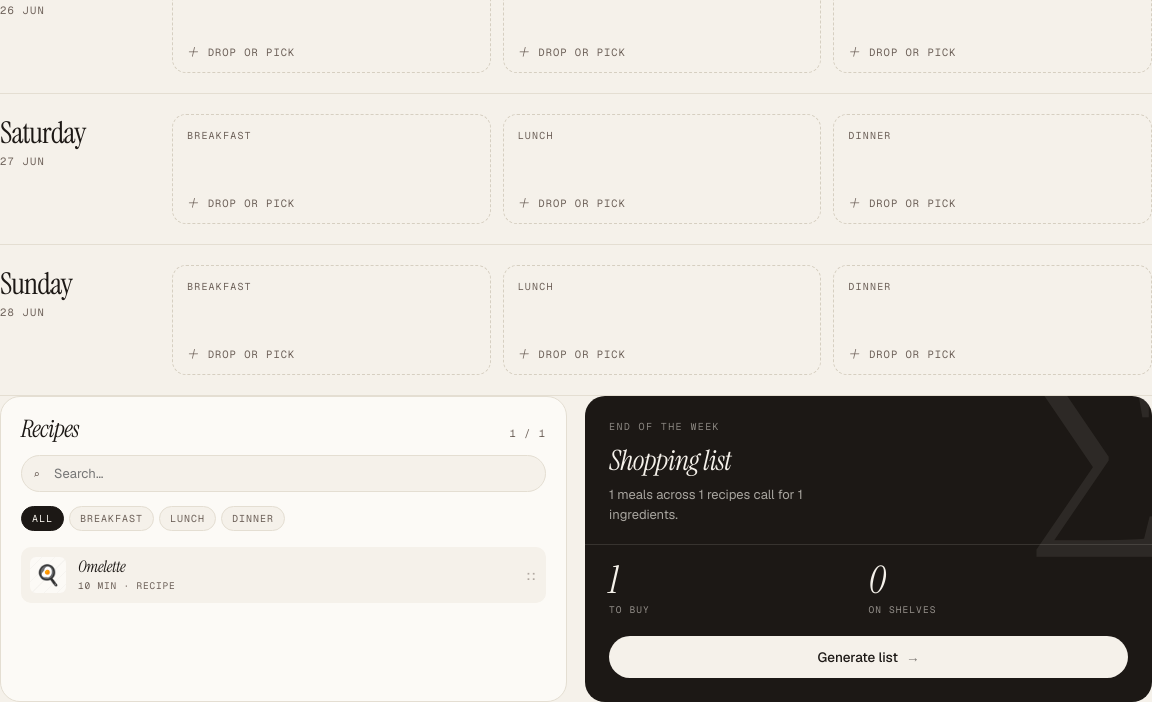
Scenario: PlannerScreen – shopping list › clicking "Generate list" opens the shopping modal
(page scrolled)
Click the button "Generate list →".
click(868, 657)  # box 609,636 -> 1128,678
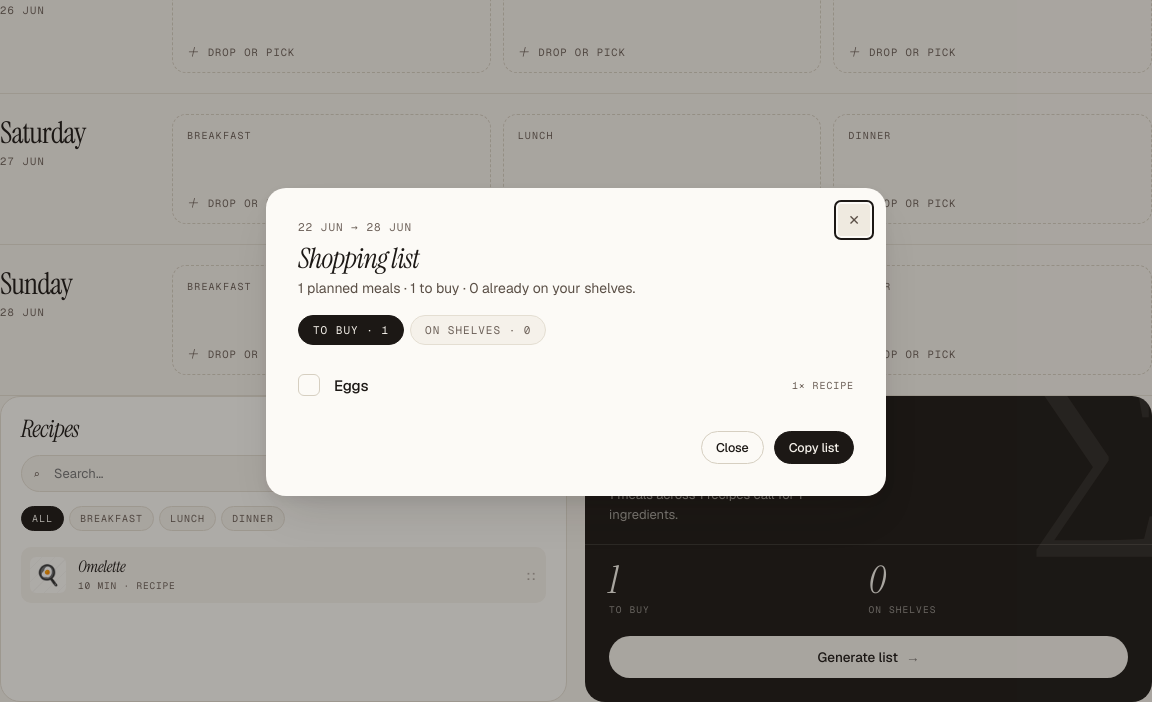
Expected: the dialog is shown, 266,188 -> 886,496
